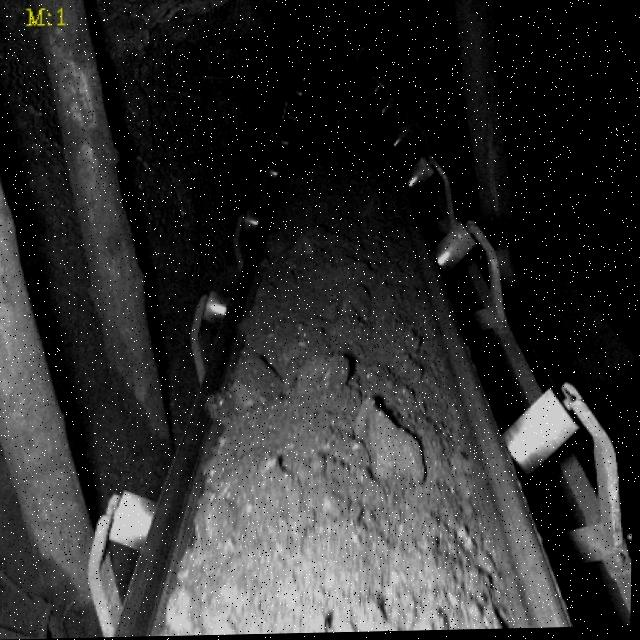large_sized_coal: (355, 403, 426, 487), (207, 357, 282, 422), (283, 359, 353, 401)
